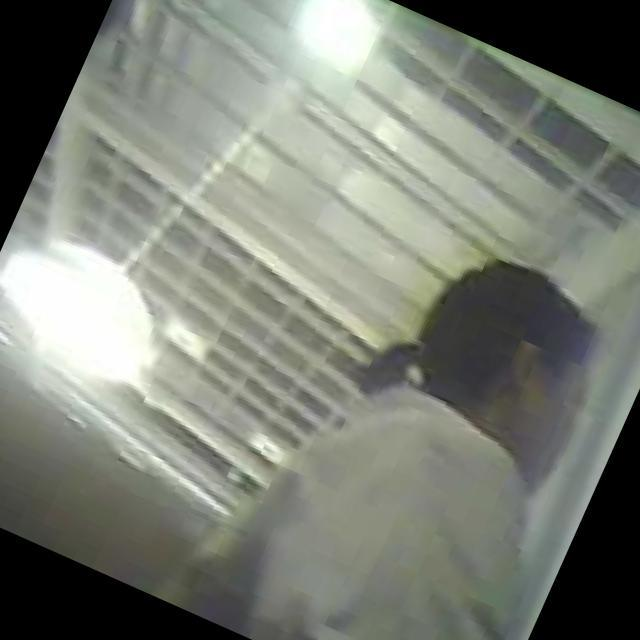person: (181, 192, 640, 640)
